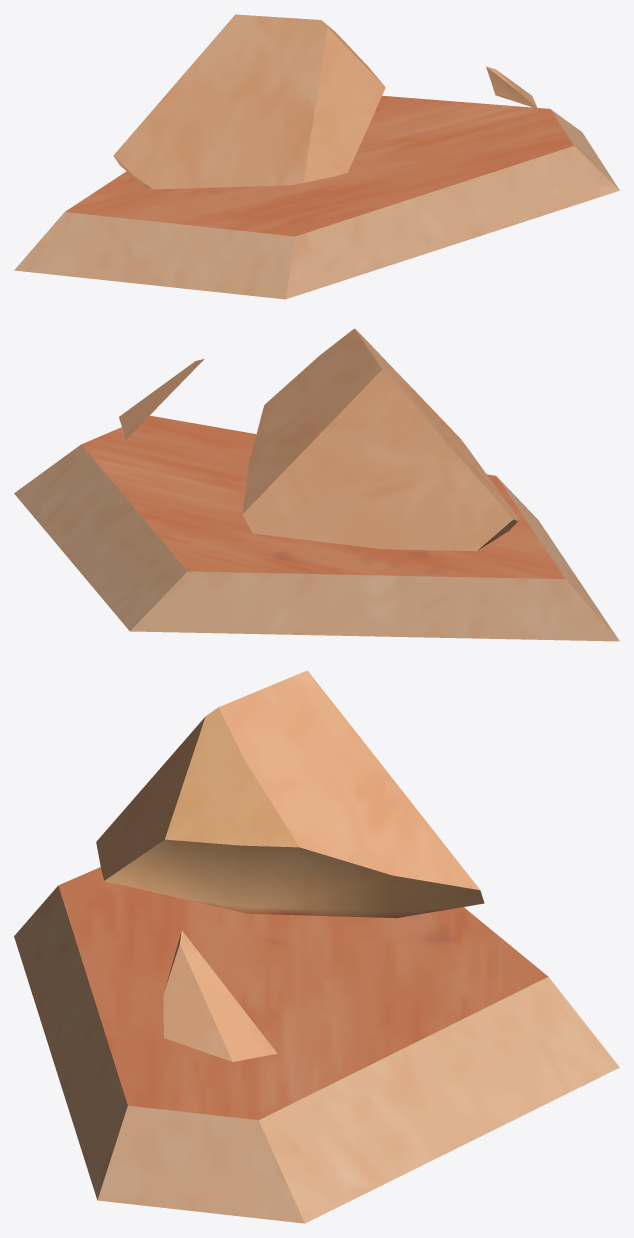
The model's file is cart_s01.fbx.
3 renders of one model, top to bottom at view 1: azimuth 30°, elevation 25°; view 2: azimuth 150°, elevation 25°; view 3: azimuth 270°, elevation 25°, orthographic. The views are drawn at different scales.
Visible parts, largest first — view 1: cart_s01; view 2: cart_s01; view 3: cart_s01.
Boxes of the visible parts, box(x1,y1,x2,y2) form: cart_s01: box(14, 14, 619, 299); cart_s01: box(14, 328, 619, 641); cart_s01: box(14, 670, 619, 1223).
Size of the model in its own units: 3.22 by 1.11 by 1.99.
